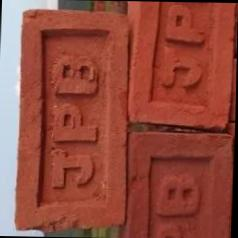brick: (11, 8, 133, 231), (127, 0, 236, 129), (125, 132, 235, 238)
